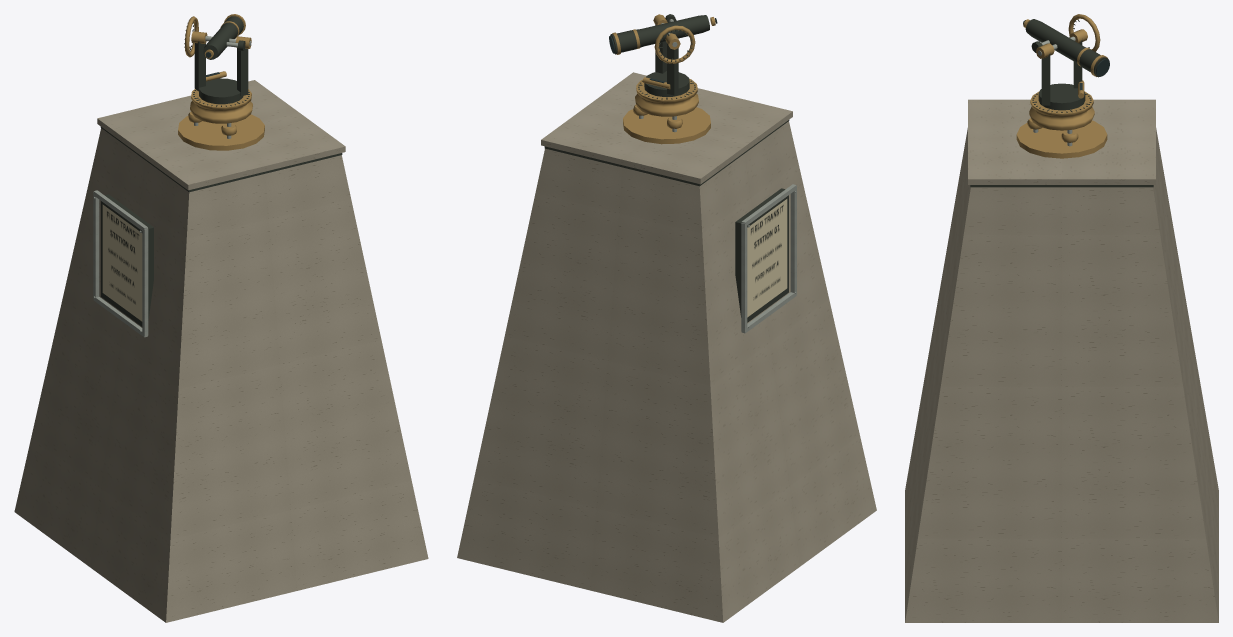
The model's file is SM_FieldKit_Transit_LOD1.fbx.
3 views of the same model, side by side, from view 1: azimuth 30°, elevation 25°; view 2: azimuth 150°, elevation 25°; view 3: azimuth 270°, elevation 25° (orthographic). The views are drawn at different scales.
Parts seen in each view (by area): view 1: SM_FieldKit_Transit_LOD1; view 2: SM_FieldKit_Transit_LOD1; view 3: SM_FieldKit_Transit_LOD1.
Boxes of the visible parts, bbox=[...] form: SM_FieldKit_Transit_LOD1: bbox=[14, 14, 428, 622]; SM_FieldKit_Transit_LOD1: bbox=[457, 14, 876, 622]; SM_FieldKit_Transit_LOD1: bbox=[905, 14, 1218, 622].
Size of the model in its own units: 0.9 by 0.9 by 1.68.
